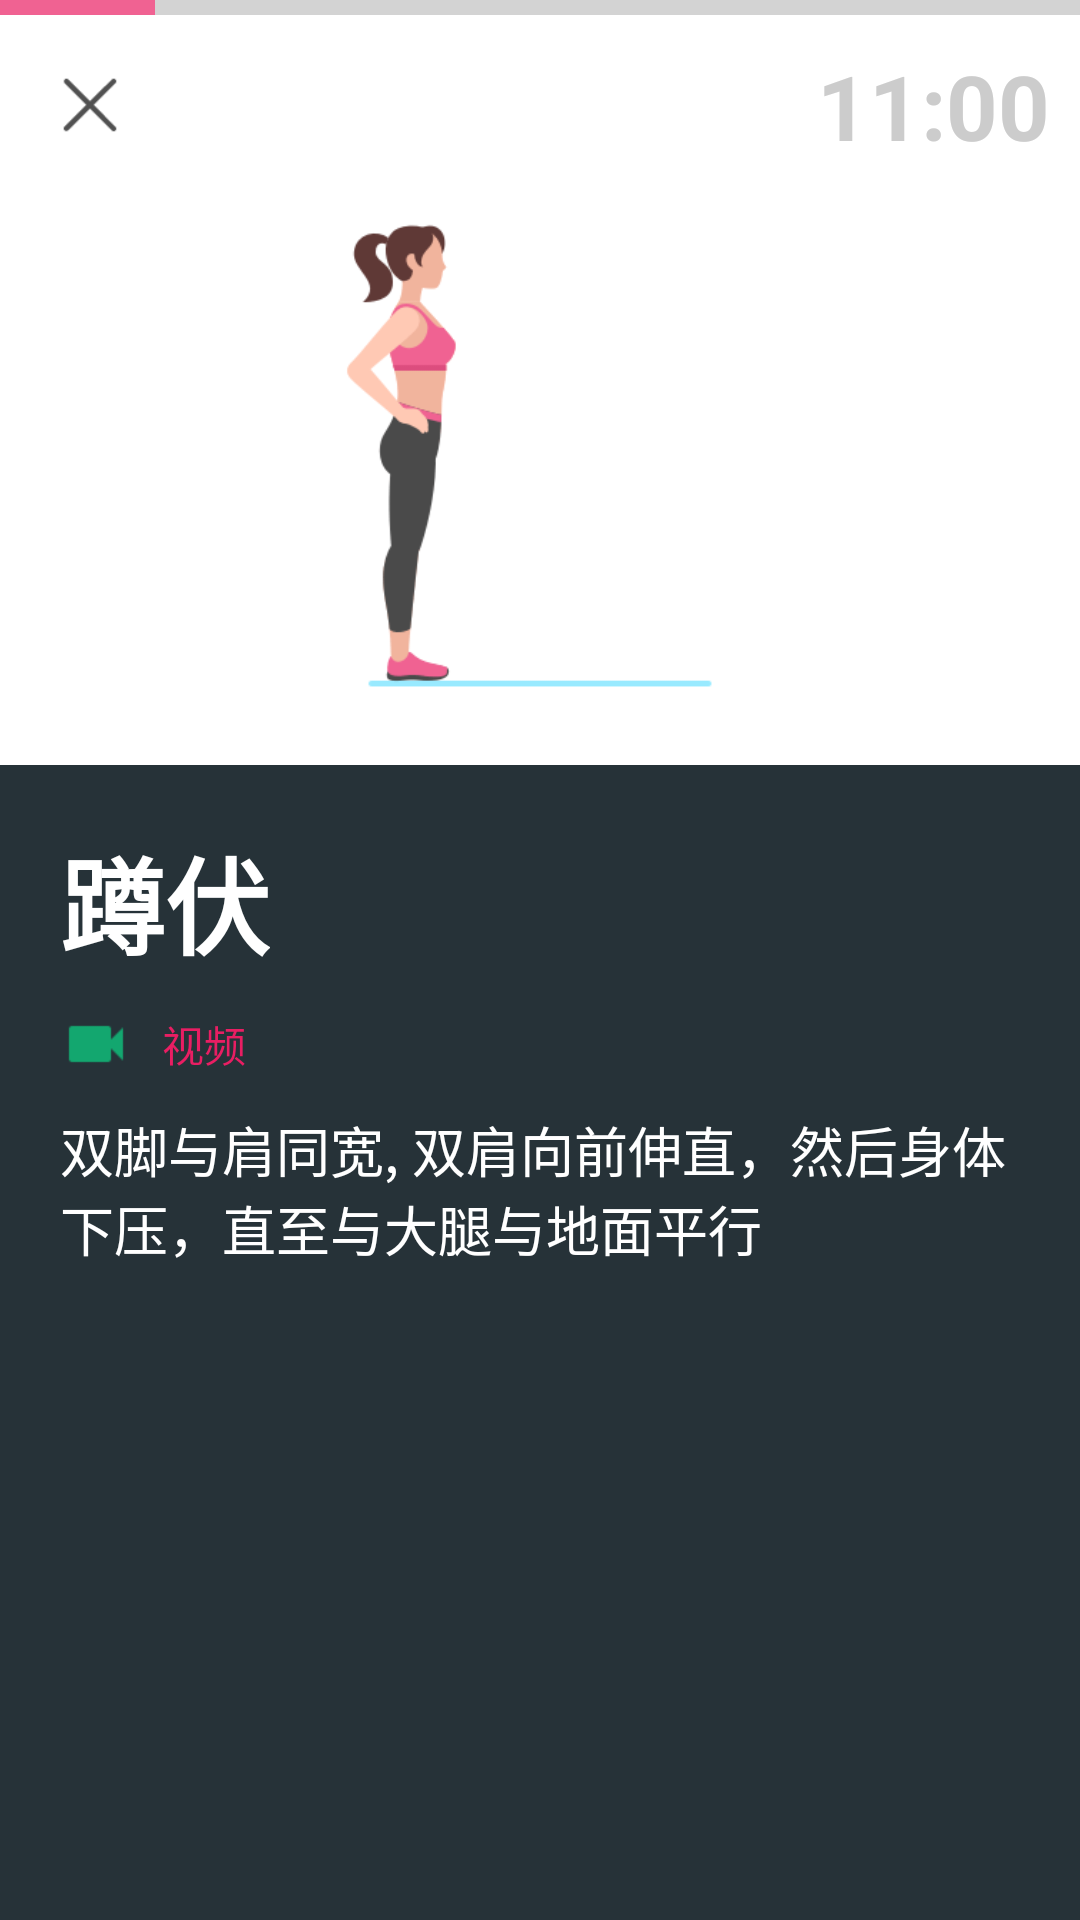

Screen size 1080 x 1920. Icon name, then its center in pixels as [x,y]:
close: [90,105]
video: [96,1044]
